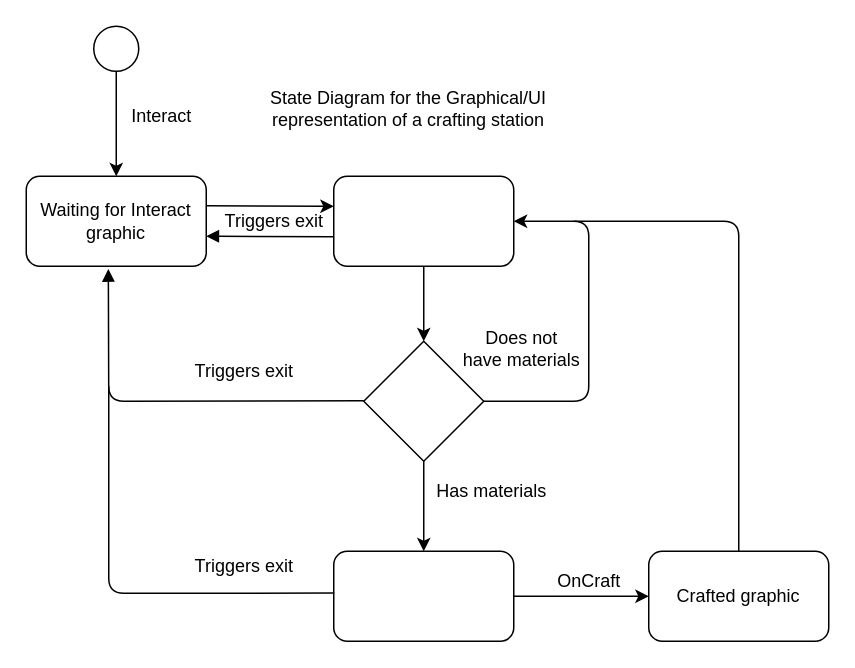
Some shapes in this 855 by 668 pixel diagram are drawn without their labels. Here are the shapes that lost their labels. From the top down, the box of each, then its label:
(332, 175, 514, 266): Recipe Selection graphic (including UI)
(332, 550, 514, 641): Waiting for OnCraft graphic
